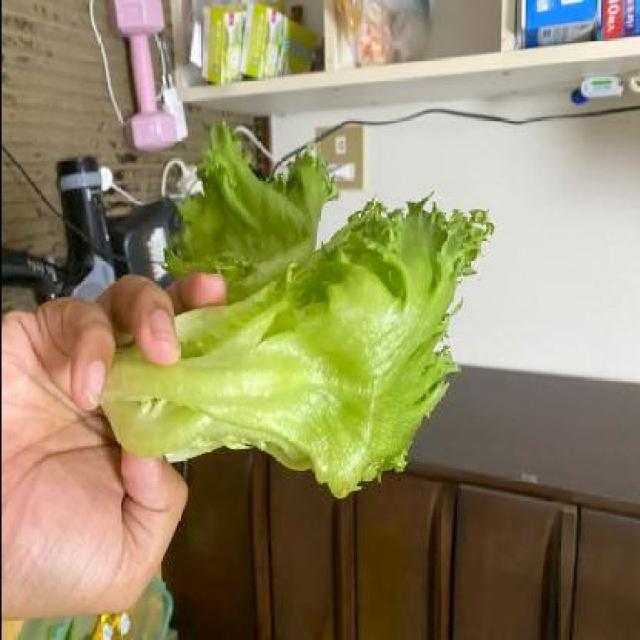Lettuce: (99, 118, 496, 497)
